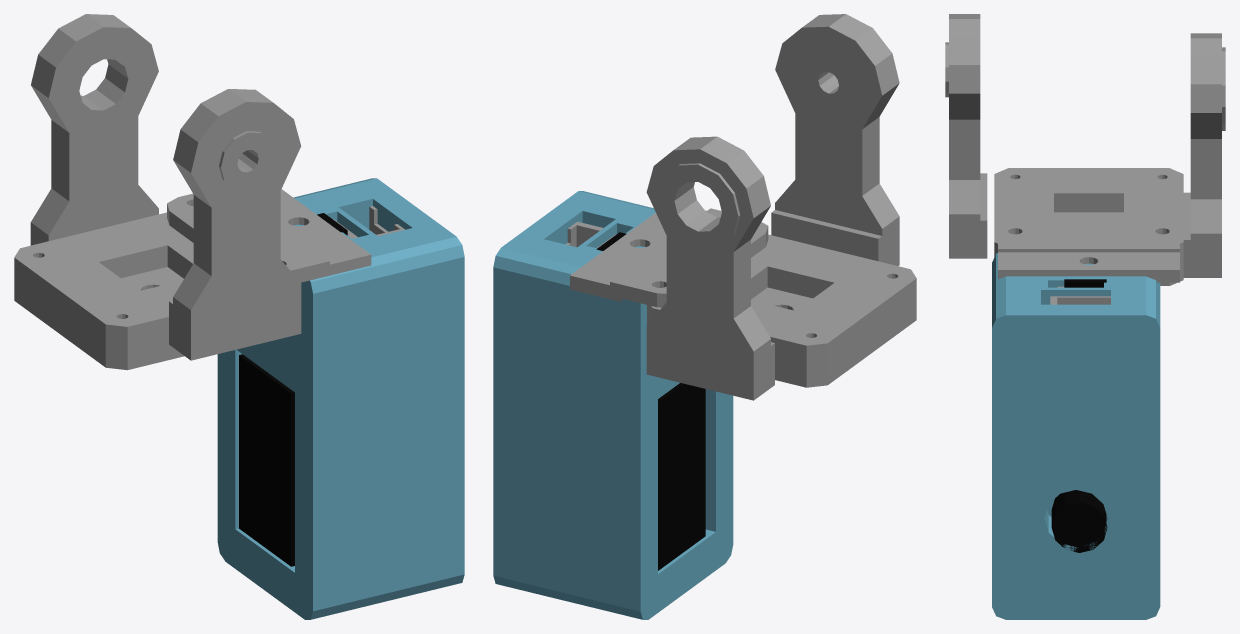
The model's file is head-reye-y.glb.
The picture shows the model from 3 angles, left to right: view 1: azimuth 30°, elevation 25°; view 2: azimuth 150°, elevation 25°; view 3: azimuth 270°, elevation 25°; orthographic projection. The views are drawn at different scales.
Size of the model in its own units: 0.0507 by 0.0782 by 0.04.
